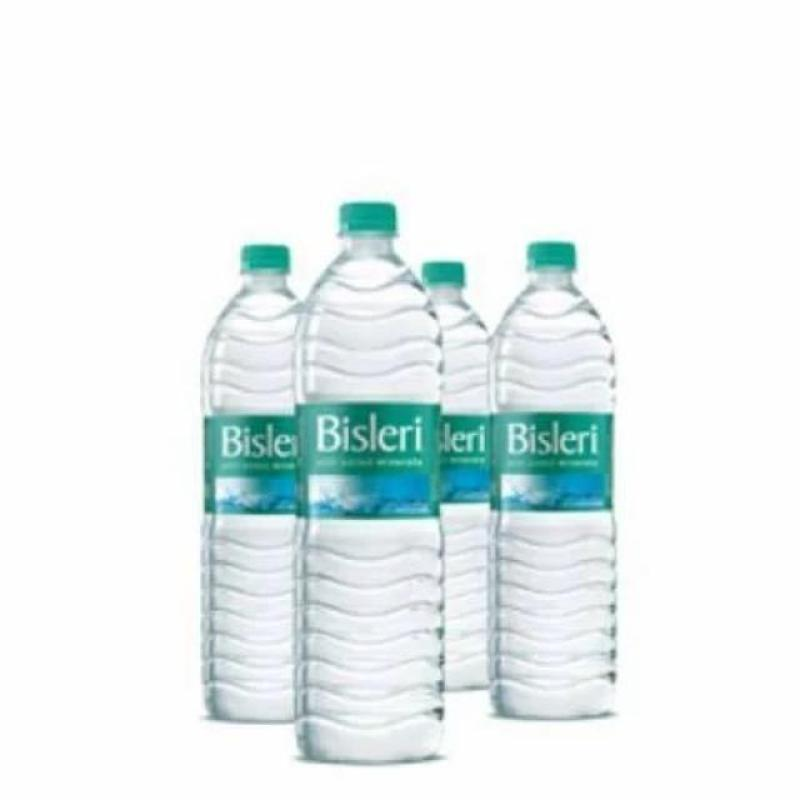botella: (297, 195, 451, 765), (498, 243, 618, 717), (200, 245, 312, 724), (416, 256, 499, 693)
